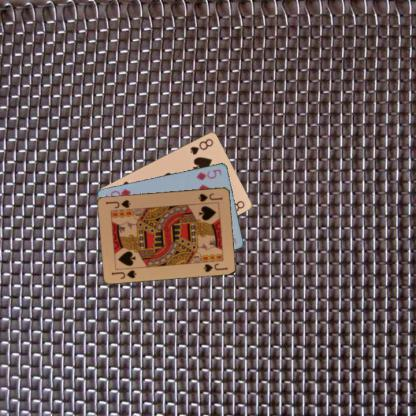5d: (194, 166, 223, 182)
8s: (188, 136, 214, 155)
Js: (109, 268, 138, 280), (196, 190, 223, 202)
